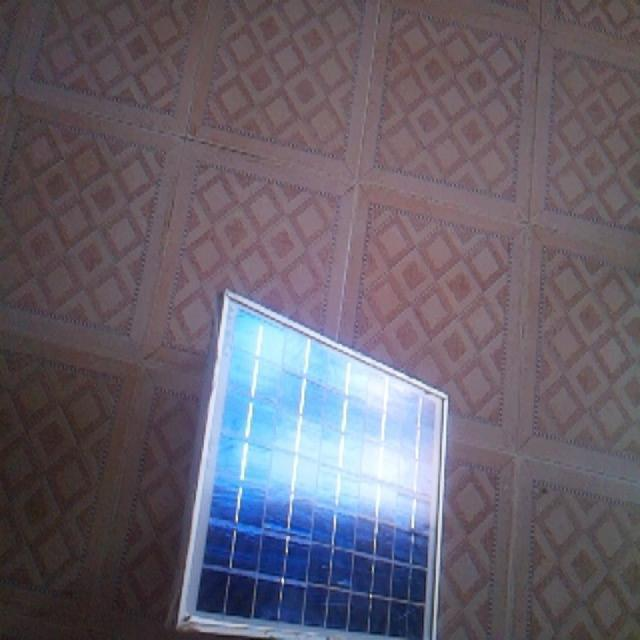Normal Solar Panel: (180, 292, 447, 639)
